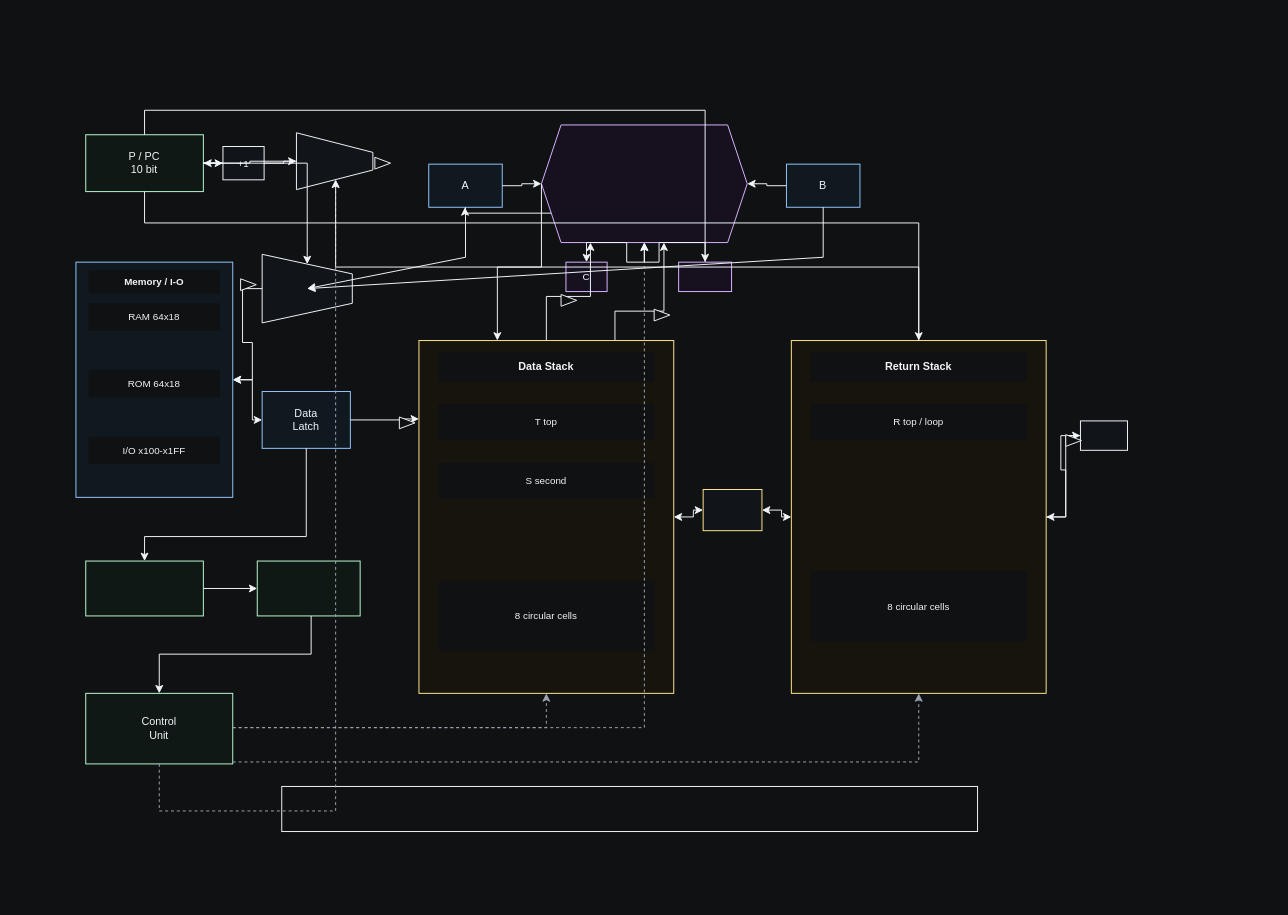
Some shapes in this 1288 by 915 pixel diagram are drawn without their labels. The shapes that lost their labels are listed below. From the top down, each one's centre as x and y in pixels, then its label:
(334,161): PC Mux
(643,183): ALU + +* 2* 2/ inv and xor
(306,288): Address Mux P A B
(705,276): EAM
(1103,435): R-1
(732,510): >r / r>
(144,588): I / IR
(308,588): Slot Mux
(629,808): @/! memory | + logic | ; call next control | drop dup over stack
